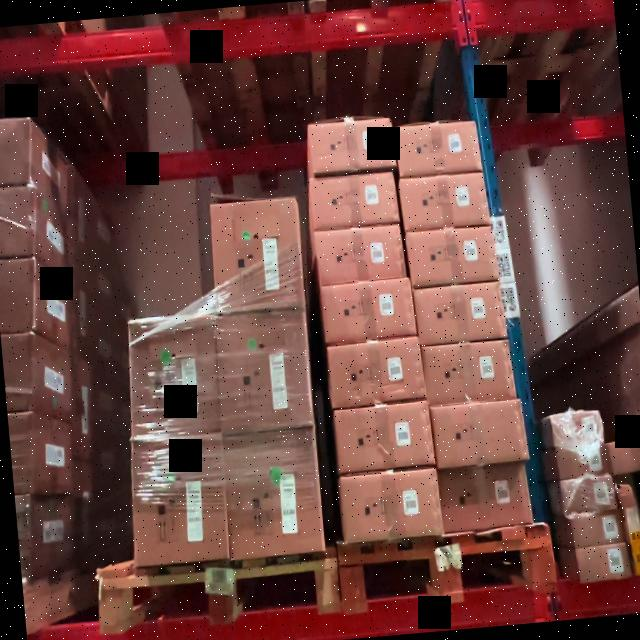box: (131, 438, 230, 566), (224, 432, 324, 556), (214, 311, 314, 430), (127, 320, 220, 438), (211, 198, 305, 312), (338, 469, 442, 541), (335, 402, 437, 473), (327, 338, 427, 407), (432, 400, 526, 467), (439, 464, 532, 530), (323, 279, 416, 343), (424, 339, 513, 403), (416, 282, 506, 344), (317, 225, 406, 284), (308, 171, 399, 228), (410, 227, 497, 286), (401, 174, 488, 232), (309, 118, 396, 176), (398, 120, 481, 174), (1, 332, 34, 410), (572, 512, 626, 550), (577, 544, 631, 582), (564, 476, 618, 513), (558, 444, 610, 480), (552, 411, 604, 447), (8, 415, 32, 493), (621, 475, 640, 572), (15, 496, 34, 580), (607, 434, 640, 473)
